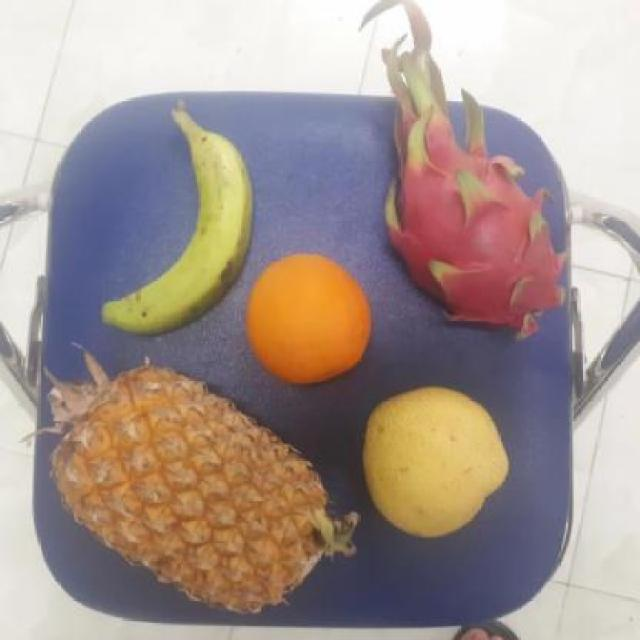banana: (92, 128, 256, 341)
dragon fruit: (380, 131, 568, 331)
oren: (246, 249, 372, 386)
pear: (357, 385, 515, 537)
pineapple: (46, 362, 323, 620)
